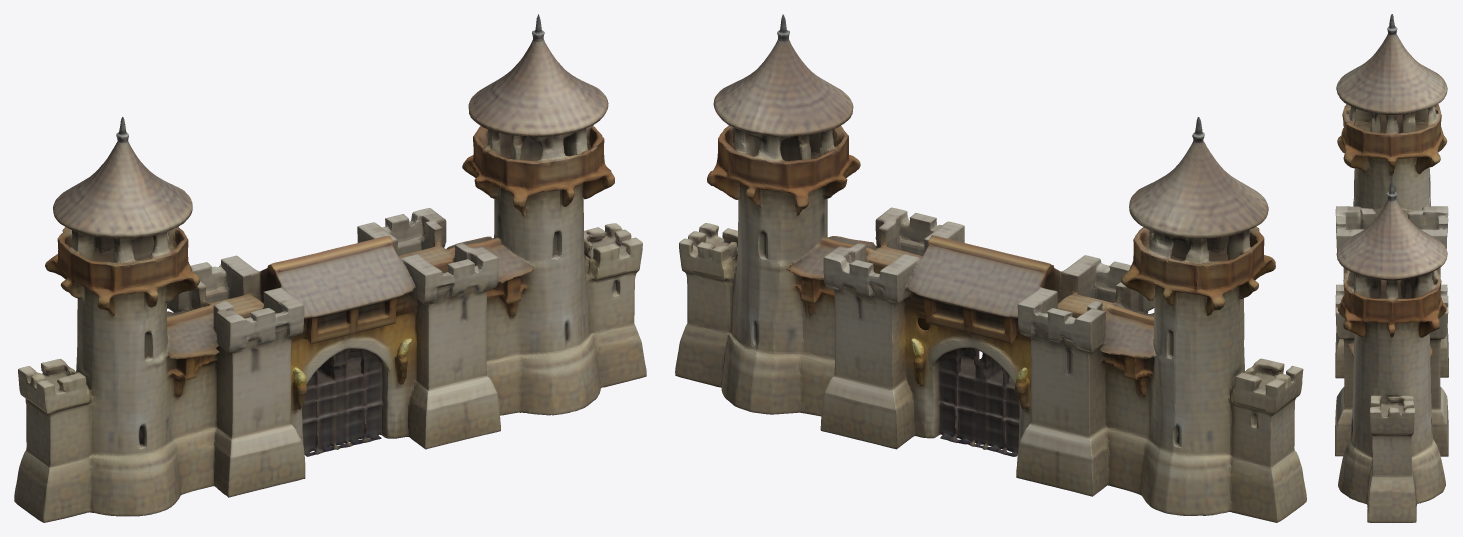
Rendered from castle_wall.glb.
The picture shows the model from 3 angles, left to right: view 1: azimuth 30°, elevation 25°; view 2: azimuth 150°, elevation 25°; view 3: azimuth 270°, elevation 25°; orthographic projection. The views are drawn at different scales.
Parts seen in each view (by area): view 1: world; view 2: world; view 3: world.
Part boxes in pixels (x1,y1,x2,y2): world: (14,14,646,522); world: (675,14,1306,522); world: (1335,14,1448,522).
Bounding box in the file's own units: 1 × 0.5931 × 0.1991.
